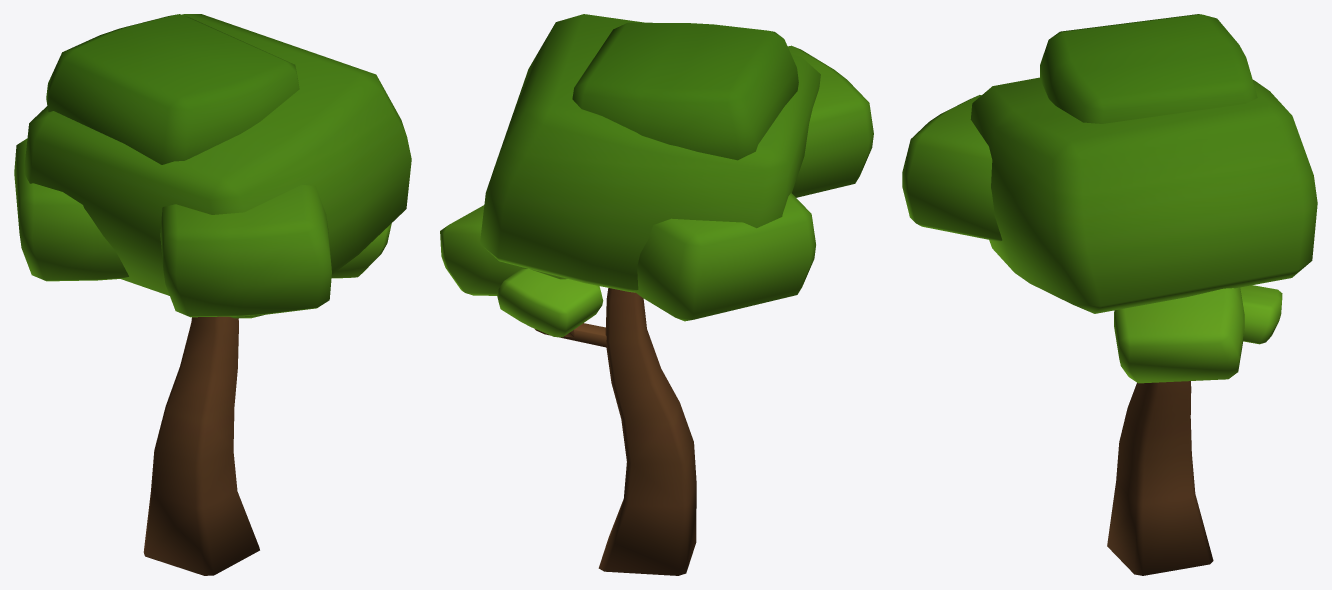
Rendered from Tree_2_4.obj.
3 renders of one model, left to right at view 1: azimuth 30°, elevation 25°; view 2: azimuth 150°, elevation 25°; view 3: azimuth 270°, elevation 25°, orthographic. The views are drawn at different scales.
Visible parts, largest first — view 1: Tree_2_4; view 2: Tree_2_4; view 3: Tree_2_4.
Part boxes in pixels (box(x1,y1,x2,y2)): Tree_2_4: box(14, 14, 411, 575); Tree_2_4: box(440, 14, 873, 575); Tree_2_4: box(902, 14, 1317, 575).
Bounding box in the file's own units: 2.43 × 3.37 × 2.59.
